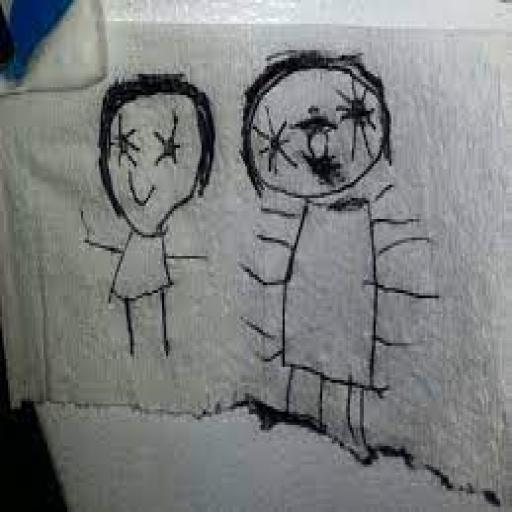person: (238, 46, 432, 450), (75, 67, 218, 373)
